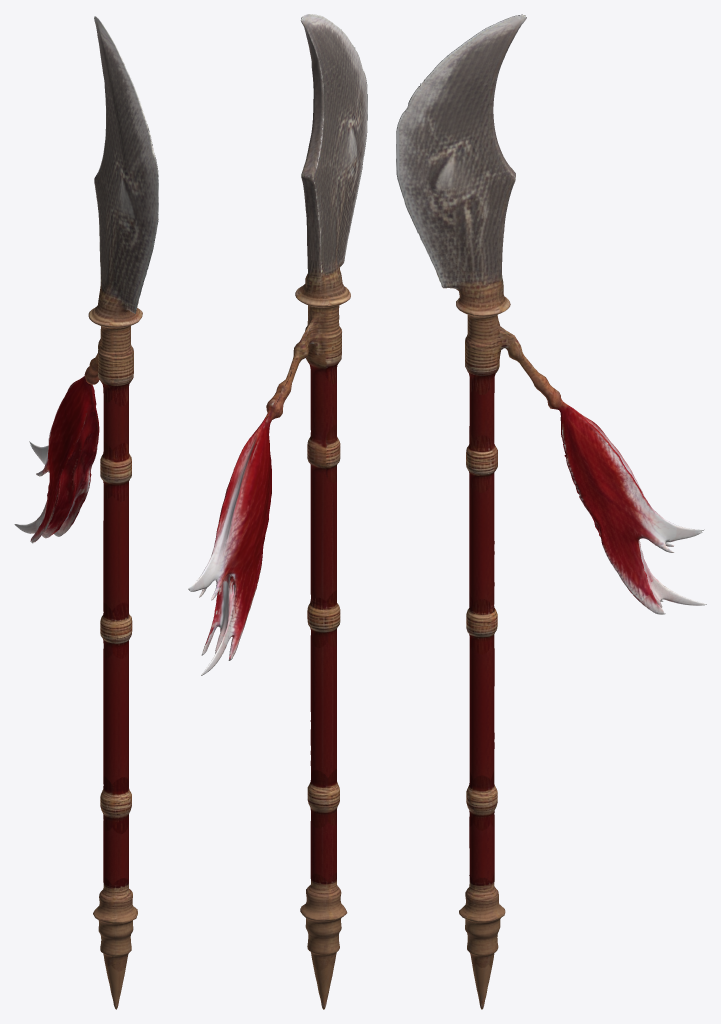
File: look-weapon-t2-rodin.glb
The picture shows the model from 3 angles, left to right: view 1: azimuth 30°, elevation 25°; view 2: azimuth 150°, elevation 25°; view 3: azimuth 270°, elevation 25°; orthographic projection. The views are drawn at different scales.
Parts seen in each view (by area): view 1: model; view 2: model; view 3: model.
Boxes of the visible parts, box(x1,y1,x2,y2) form: model: box(14, 16, 158, 1009); model: box(188, 14, 367, 1009); model: box(396, 14, 706, 1009).
Bounding box in the file's own units: 0.1163 × 1.9 × 0.5363.
Materials: 1 (1 with a texture image).
